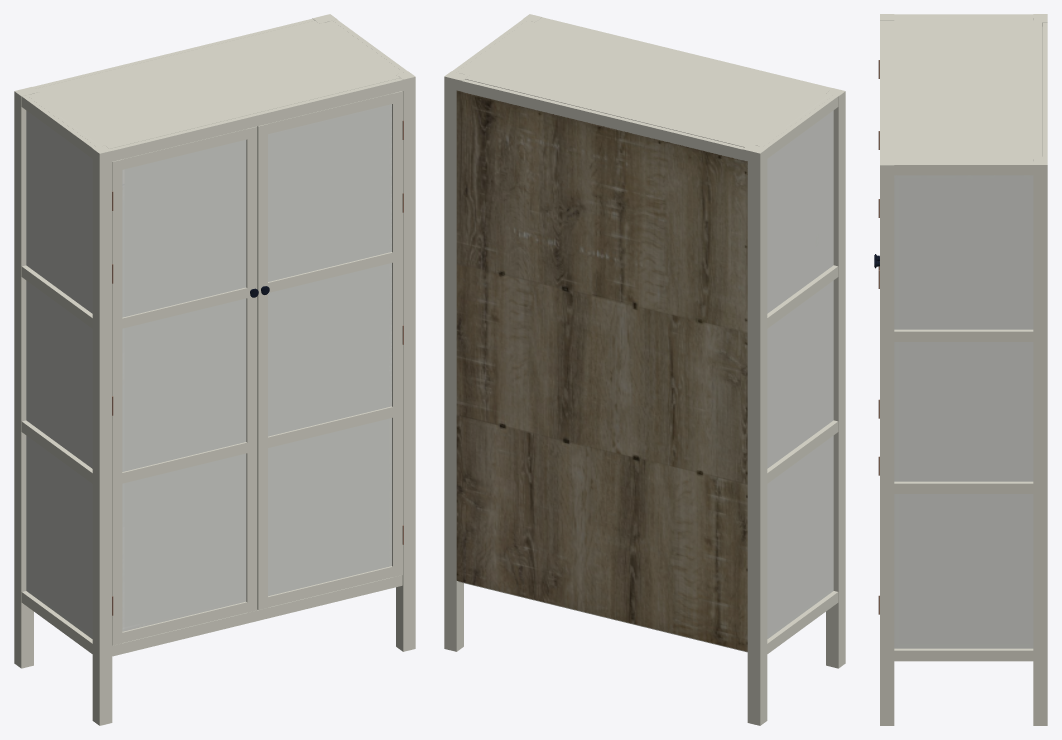
The picture shows the model from 3 angles, left to right: view 1: azimuth 30°, elevation 25°; view 2: azimuth 150°, elevation 25°; view 3: azimuth 270°, elevation 25°; orthographic projection. The views are drawn at different scales.
Visible parts, largest first — view 1: 51803180_glass, 51803180_main; view 2: 51803180_main, 51803180_glass; view 3: 51803180_glass, 51803180_main.
Part boxes in pixels (<box>): 51803180_glass: <box>26,104,391,638</box>; 51803180_main: <box>14,14,415,725</box>; 51803180_main: <box>444,14,845,725</box>; 51803180_glass: <box>767,110,833,638</box>; 51803180_glass: <box>894,175,1033,648</box>; 51803180_main: <box>874,14,1047,725</box>.
Size of what is drawn, in the model's own units: 32 by 55.49 by 15.51.
2 materials, 2 textured.
